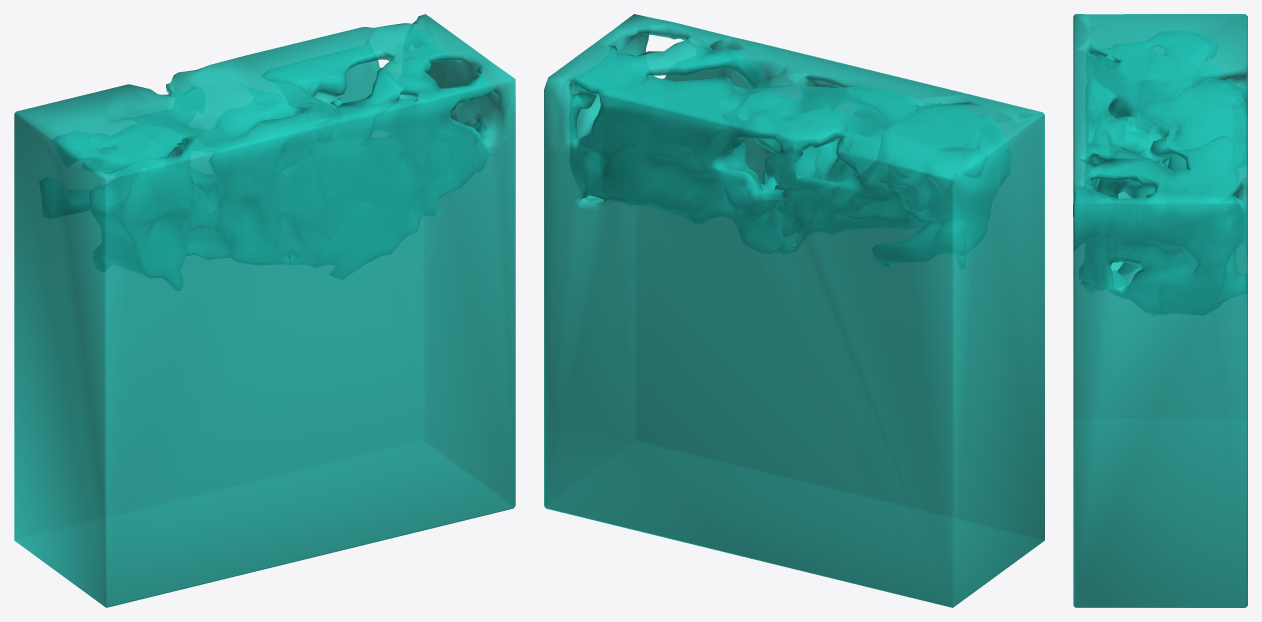
3 renders of one model, left to right at view 1: azimuth 30°, elevation 25°; view 2: azimuth 150°, elevation 25°; view 3: azimuth 270°, elevation 25°, orthographic. The views are drawn at different scales.
Visible parts, largest first — view 1: Liquid_Domain; view 2: Liquid_Domain; view 3: Liquid_Domain.
Boxes of the visible parts, box(x1,y1,x2,y2) form: Liquid_Domain: box(14, 14, 515, 607); Liquid_Domain: box(544, 14, 1044, 607); Liquid_Domain: box(1073, 14, 1247, 607).
Size of the model in its own units: 1965 by 1965 by 766.
